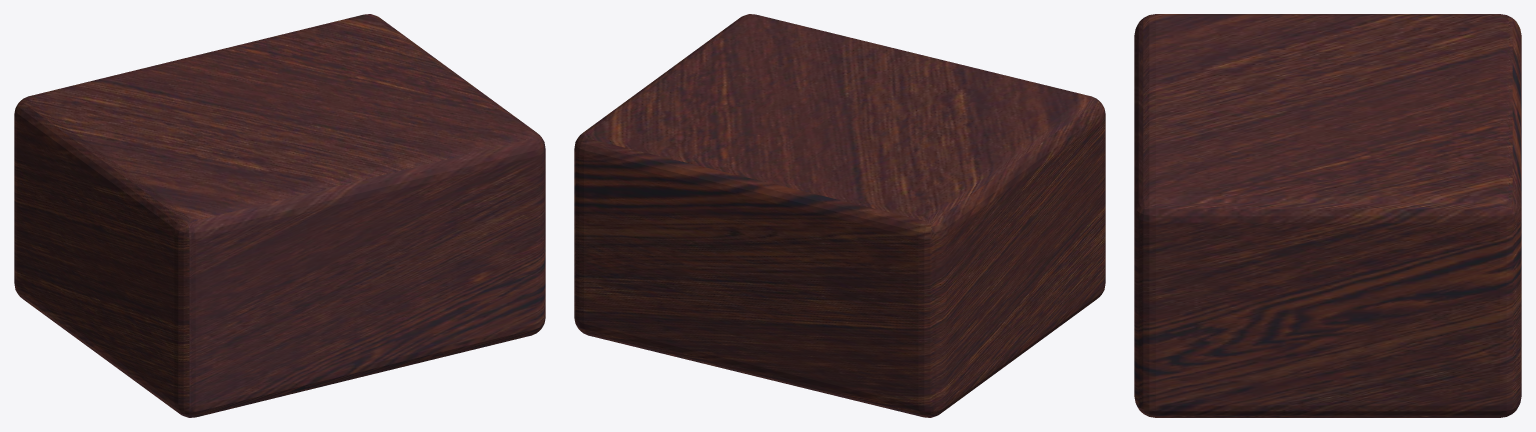
The model's file is musicbox.gltf.
3 views of the same model, side by side, from view 1: azimuth 30°, elevation 25°; view 2: azimuth 150°, elevation 25°; view 3: azimuth 270°, elevation 25° (orthographic). The views are drawn at different scales.
Parts seen in each view (by area): view 1: Cube; view 2: Cube; view 3: Cube.
Boxes of the visible parts, <box> form: Cube: <box>14,14,545,417</box>; Cube: <box>574,14,1105,417</box>; Cube: <box>1134,14,1521,417</box>.
Bounding box in the file's own units: 2.4 × 1.27 × 2.
1 material, 1 textured.
